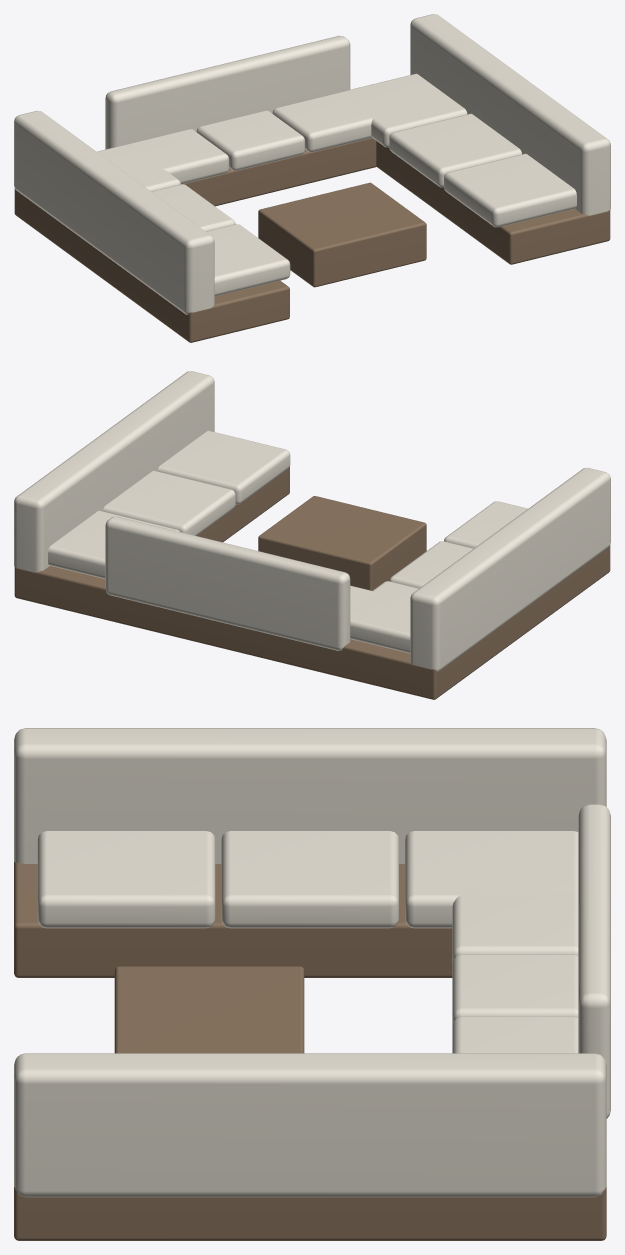
The model's file is wh-outdoor-lounge-set.glb.
3 renders of one model, top to bottom at view 1: azimuth 30°, elevation 25°; view 2: azimuth 150°, elevation 25°; view 3: azimuth 270°, elevation 25°, orthographic. The views are drawn at different scales.
Visible parts, largest first — view 1: Outdoor side sofa back.002, Outdoor side sofa base.002; view 2: Outdoor side sofa back.002, Outdoor side sofa base.002; view 3: Outdoor side sofa back.002, Outdoor side sofa base.002.
Boxes of the visible parts, x1,y1,x2,y2 form: Outdoor side sofa back.002: [14, 14, 610, 314]; Outdoor side sofa base.002: [14, 138, 610, 342]; Outdoor side sofa back.002: [14, 371, 610, 671]; Outdoor side sofa base.002: [14, 466, 610, 699]; Outdoor side sofa back.002: [14, 728, 610, 1197]; Outdoor side sofa base.002: [14, 862, 606, 1240].
Size of the model in its own units: 3.6 by 0.85 by 2.6.
